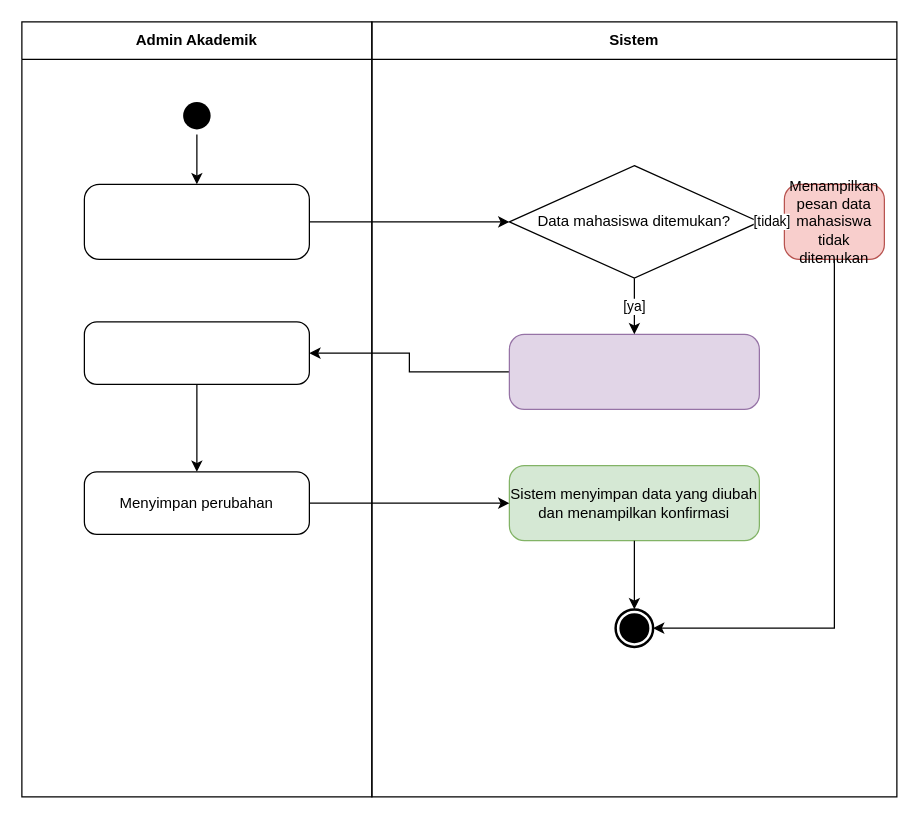
Image size: 919x819. Some labels were removed from this diagram. The centre of each missing label's shape, as x and y in pixels:
"Memilih data mahasiswa yang akan diubah" goes at [196,221].
"Menampilkan data mahasiswa saat ini" goes at [633,371].
"Mengubah data mahasiswa" goes at [196,352].
